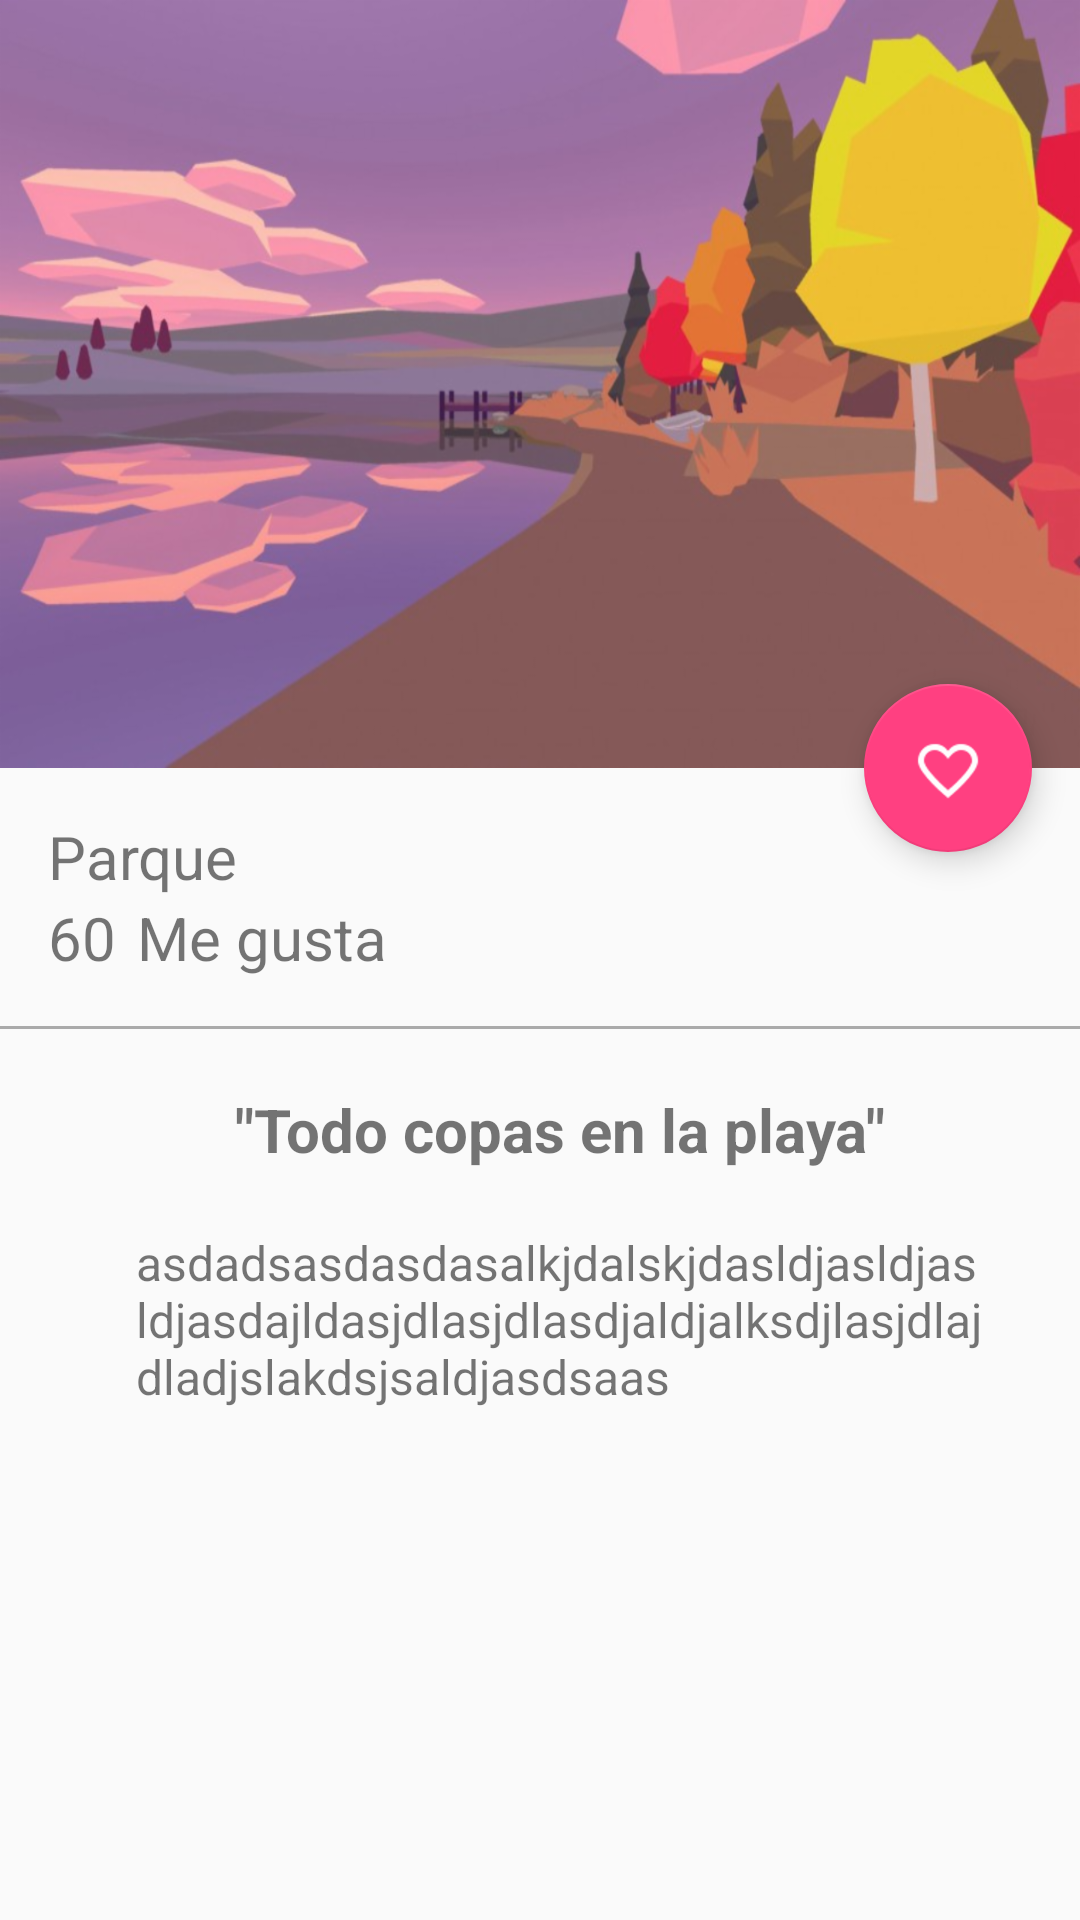

Where to tap for icons on this 1080×1920 app screen, as (x,y):
like: (948,768)
